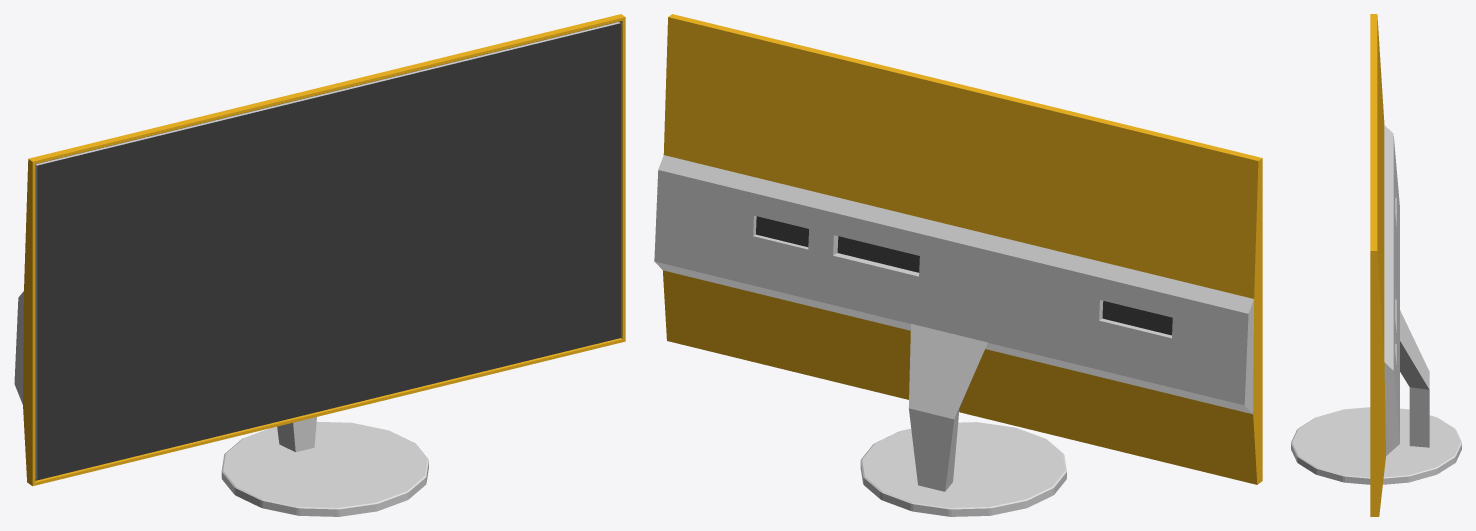
Rendered from Monitor.fbx.
3 renders of one model, left to right at view 1: azimuth 30°, elevation 25°; view 2: azimuth 150°, elevation 25°; view 3: azimuth 270°, elevation 25°, orthographic. The views are drawn at different scales.
Visible parts, largest first — view 1: Monitor; view 2: Monitor; view 3: Monitor.
Part boxes in pixels (x1,y1,x2,y2): Monitor: (14, 14, 625, 516); Monitor: (654, 14, 1262, 516); Monitor: (1291, 14, 1461, 516).
Size of the model in its own units: 654 by 408 by 199.
